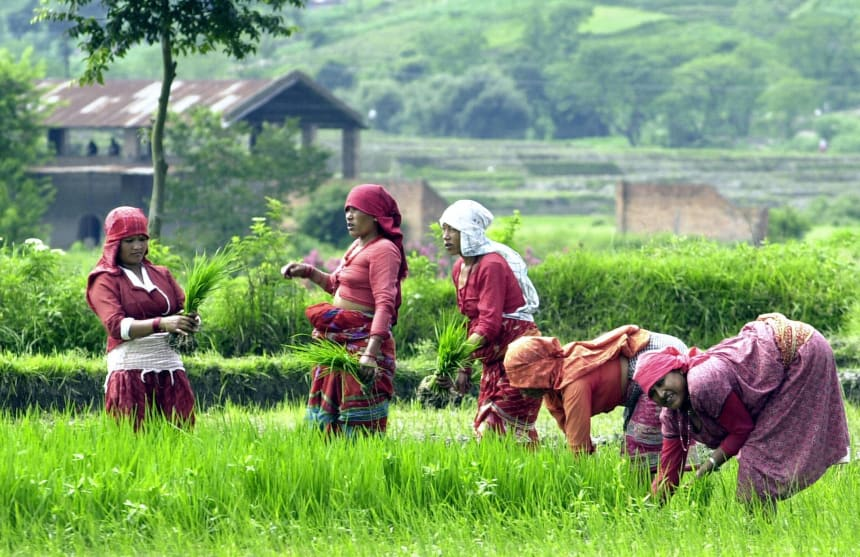human: (614, 316, 854, 528), (267, 180, 412, 437), (424, 196, 549, 468), (78, 201, 215, 431), (502, 326, 708, 468)
